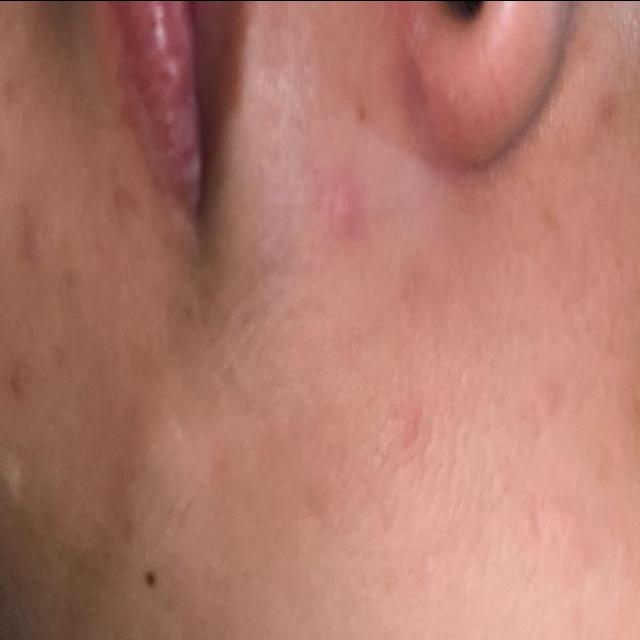papule: (0, 132, 61, 280), (297, 162, 363, 271)
